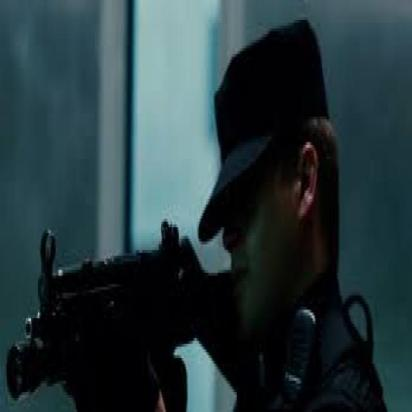Gun: (6, 215, 236, 412)
